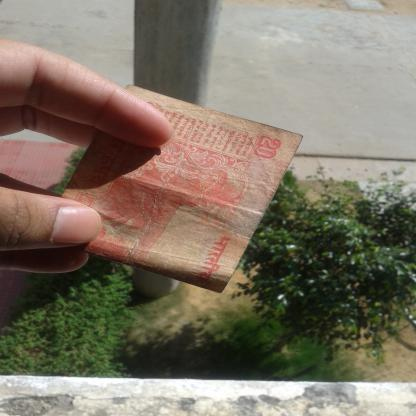Old20Back: (49, 92, 289, 278)
